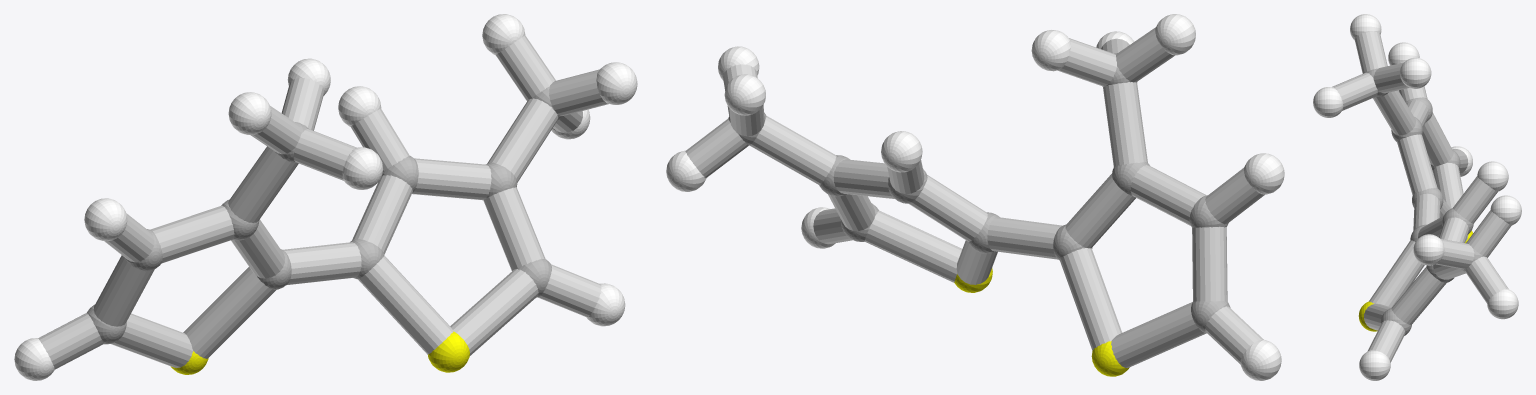
Rendered from Methylthiophene_Phi_5_Theta_120_Methylthiophene.glb.
3 views of the same model, side by side, from view 1: azimuth 30°, elevation 25°; view 2: azimuth 150°, elevation 25°; view 3: azimuth 270°, elevation 25° (orthographic). The views are drawn at different scales.
Visible parts, largest first — view 1: grp7965, grp3621, grp1, grp7241; view 2: grp7965, grp3621, grp1, grp7241; view 3: grp7965, grp3621, grp1, grp7241.
Part boxes in pixels (x1,y1,x2,y2): grp7965: (38, 35, 608, 369); grp3621: (14, 14, 637, 380); grp1: (87, 86, 563, 344); grp7241: (170, 331, 469, 374); grp7965: (685, 27, 1264, 368); grp3621: (666, 14, 1284, 380); grp1: (728, 53, 1230, 333); grp7241: (954, 268, 1129, 376); grp7965: (1332, 31, 1511, 362); grp3621: (1313, 14, 1521, 380); grp1: (1366, 68, 1483, 335); grp7241: (1358, 230, 1472, 331).
Size of the model in its own units: 9.66 by 5.08 by 3.98.
